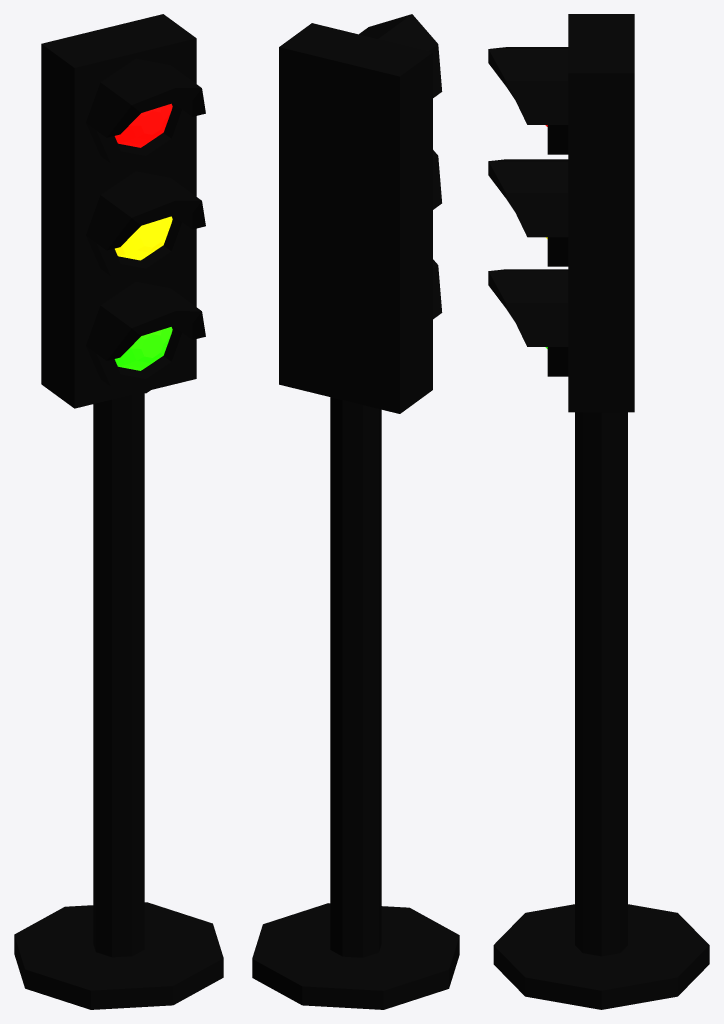
Rendered from prop_traffic_light.glb.
The picture shows the model from 3 angles, left to right: view 1: azimuth 30°, elevation 25°; view 2: azimuth 150°, elevation 25°; view 3: azimuth 270°, elevation 25°; orthographic projection.
Visible parts, largest first — view 1: traffic light; view 2: traffic light; view 3: traffic light.
Part boxes in pixels (x1,y1,x2,y2): traffic light: (14, 14, 223, 1009); traffic light: (252, 14, 459, 1009); traffic light: (488, 14, 709, 1009).
Size of the model in its own units: 1.83 by 8.63 by 1.88.
